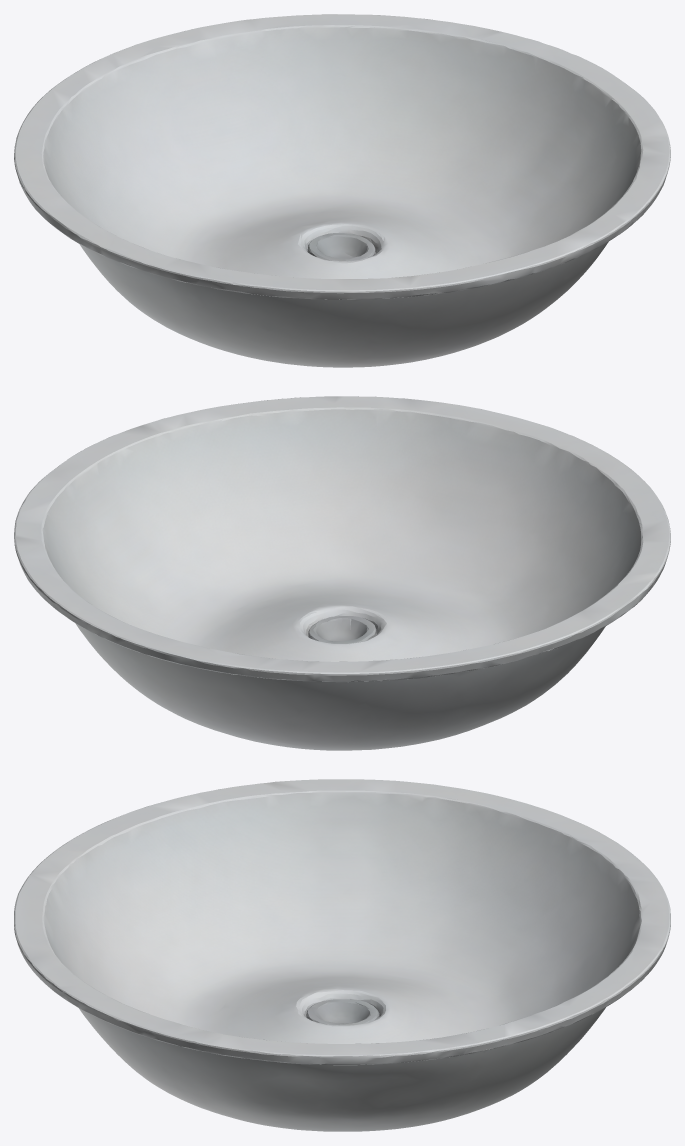
Rendered from basin-v2.glb.
3 renders of one model, top to bottom at view 1: azimuth 30°, elevation 25°; view 2: azimuth 150°, elevation 25°; view 3: azimuth 270°, elevation 25°, orthographic.
Visible parts, largest first — view 1: model; view 2: model; view 3: model.
Part boxes in pixels (x1,y1,x2,y2): model: (14, 14, 670, 367); model: (14, 396, 670, 750); model: (14, 779, 670, 1131).
Size of the model in its own units: 1.89 by 0.5169 by 1.89.
1 material, 1 textured.
